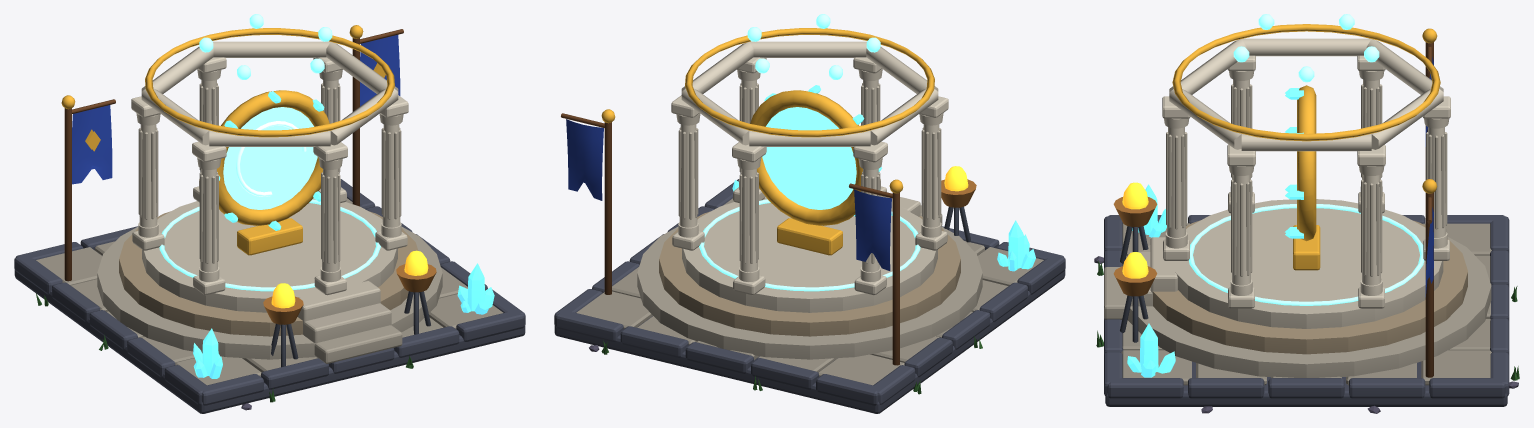
Rendered from hero_sanctuary.glb.
3 views of the same model, side by side, from view 1: azimuth 30°, elevation 25°; view 2: azimuth 150°, elevation 25°; view 3: azimuth 270°, elevation 25° (orthographic). The views are drawn at different scales.
Parts seen in each view (by area): view 1: t0_marble, t0_stone_dark, t0_gold, t0_stone_warm, portal_t0_spinZ80_rune, t1_cloth_blue, t1_wood_dark, t3_crystal, t0_bronze, t0_rune, t0_iron, halo_t2_spinY40_rune (+5 smaller); view 2: t0_marble, t0_stone_dark, t0_gold, t0_stone_warm, portal_t0_spinZ80_rune, t1_cloth_blue, t1_wood_dark, t0_rune, t3_crystal, halo_t2_spinY40_rune, t0_bronze, flame1_t0_bob2_flame (+1 smaller); view 3: t0_marble, t0_stone_dark, t0_stone_warm, t0_gold, t0_rune, t3_crystal, t1_wood_dark, t0_bronze, t0_iron, halo_t2_spinY40_rune, t0_crystal, flame1_t0_bob2_flame (+2 smaller).
Boxes of the visible parts, left/top/right/bottom form: t0_marble: left=36, top=41, right=503, bottom=385; t0_stone_dark: left=14, top=179, right=525, bottom=413; t0_gold: left=145, top=28, right=394, bottom=255; t0_stone_warm: left=119, top=211, right=418, bottom=336; portal_t0_spinZ80_rune: left=223, top=107, right=317, bottom=209; t1_cloth_blue: left=72, top=35, right=400, bottom=184; t1_wood_dark: left=64, top=29, right=403, bottom=281; t3_crystal: left=193, top=263, right=494, bottom=378; t0_bronze: left=263, top=264, right=436, bottom=324; t0_rune: left=159, top=199, right=380, bottom=291; t0_iron: left=271, top=291, right=430, bottom=367; halo_t2_spinY40_rune: left=199, top=14, right=332, bottom=79; t0_marble: left=576, top=41, right=1043, bottom=385; t0_stone_dark: left=554, top=179, right=1065, bottom=413; t0_gold: left=685, top=28, right=934, bottom=255; t0_stone_warm: left=659, top=211, right=960, bottom=336; portal_t0_spinZ80_rune: left=762, top=107, right=856, bottom=209; t1_cloth_blue: left=566, top=119, right=891, bottom=270; t1_wood_dark: left=561, top=113, right=899, bottom=365; t0_rune: left=699, top=199, right=920, bottom=291; t3_crystal: left=732, top=180, right=1035, bottom=271; halo_t2_spinY40_rune: left=747, top=14, right=880, bottom=79; t0_bronze: left=941, top=179, right=976, bottom=207; flame1_t0_bob2_flame: left=944, top=166, right=968, bottom=191; t0_marble: left=1104, top=38, right=1491, bottom=385; t0_stone_dark: left=1104, top=215, right=1509, bottom=406; t0_stone_warm: left=1153, top=220, right=1467, bottom=354; t0_gold: left=1172, top=24, right=1440, bottom=270; t0_rune: left=1189, top=204, right=1424, bottom=305; t3_crystal: left=1127, top=184, right=1175, bottom=377; t1_wood_dark: left=1425, top=42, right=1433, bottom=377; t0_bronze: left=1113, top=197, right=1157, bottom=296; t0_iron: left=1120, top=226, right=1148, bottom=342; halo_t2_spinY40_rune: left=1233, top=14, right=1379, bottom=82; t0_crystal: left=1285, top=88, right=1303, bottom=238; flame1_t0_bob2_flame: left=1122, top=182, right=1148, bottom=209.
Size of the model in its own units: 3.28 by 2.31 by 3.11.
